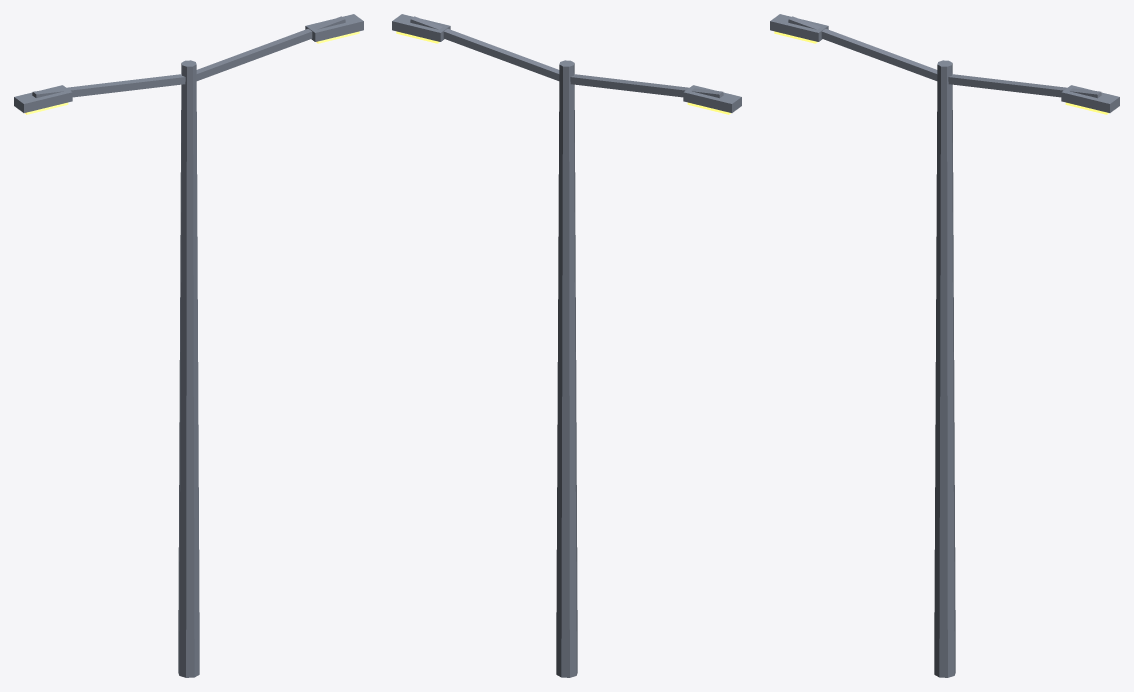
The model's file is highway_lamp.glb.
The picture shows the model from 3 angles, left to right: view 1: azimuth 30°, elevation 25°; view 2: azimuth 150°, elevation 25°; view 3: azimuth 330°, elevation 25°; orthographic projection.
Parts seen in each view (by area): view 1: lamp; view 2: lamp; view 3: lamp.
Part boxes in pixels (bbox=[...]): lamp: bbox=[14, 14, 363, 677]; lamp: bbox=[392, 14, 741, 677]; lamp: bbox=[770, 14, 1119, 677].
Bounding box in the file's own units: 7 × 12.16 × 0.4.
